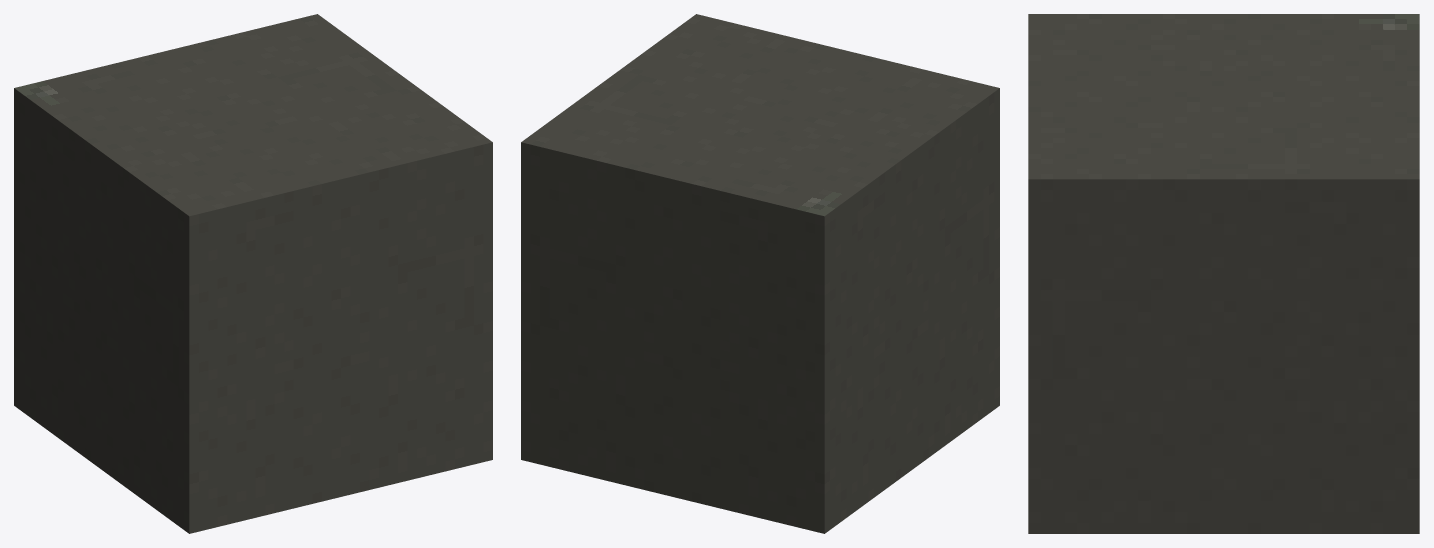
File: road_asphalt_to_gravel_inner_corner.gltf
The picture shows the model from 3 angles, left to right: view 1: azimuth 30°, elevation 25°; view 2: azimuth 150°, elevation 25°; view 3: azimuth 270°, elevation 25°; orthographic projection. The views are drawn at different scales.
Visible parts, largest first — view 1: block_sides, transition_top; view 2: block_sides, transition_top; view 3: block_sides, transition_top.
Boxes of the visible parts, x1,y1,x2,y2 form: block_sides: (14,88,492,533); transition_top: (14,14,492,216); block_sides: (521,88,999,533); transition_top: (521,14,999,216); block_sides: (1028,179,1419,533); transition_top: (1028,14,1419,179).
Size of the model in its own units: 2 by 2 by 2.
2 materials, 2 textured.
